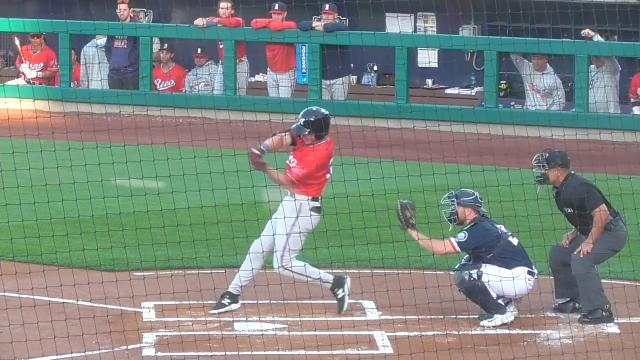sports ball: (112, 175, 168, 192)
